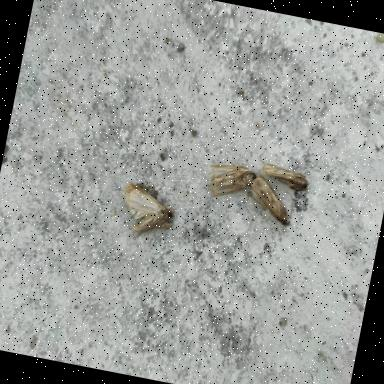pbw: (117, 182, 180, 241), (243, 176, 298, 228), (204, 160, 257, 204), (258, 160, 312, 192)
